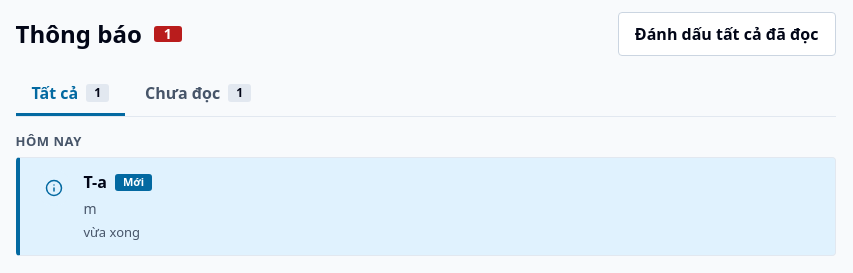
Test: Notifications page states › unread filter sends is_read=false; empty state says you are caught up
The image size is (853, 273).
expect the text "T-a" is shown: met, box [84,170,107,194]
What coordinates should you click on to do the following:
click the tab "Chưa đọc 1"
I would click on:
 (198, 94)
Its box is [129,72,267,116].
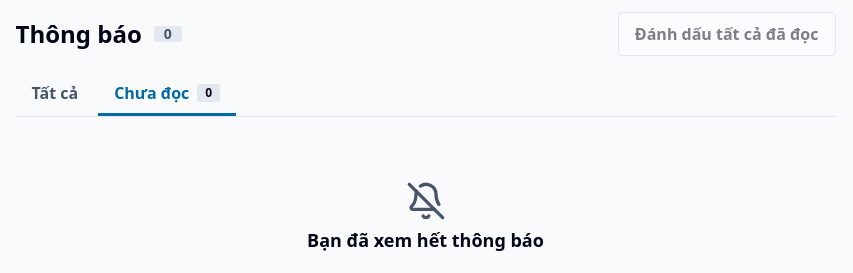
expect the heading "Bạn đã xem hết thông báo" is shown: met, box [307,229,544,252]
